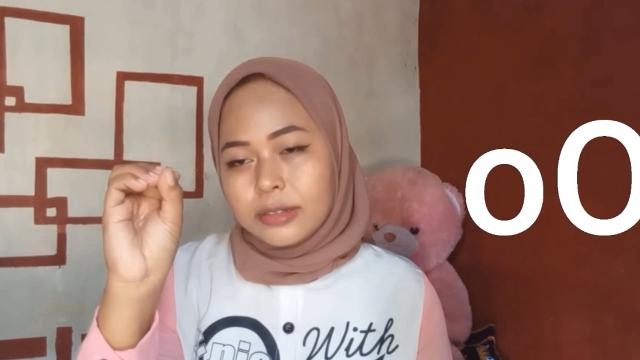O: (98, 155, 188, 285)
